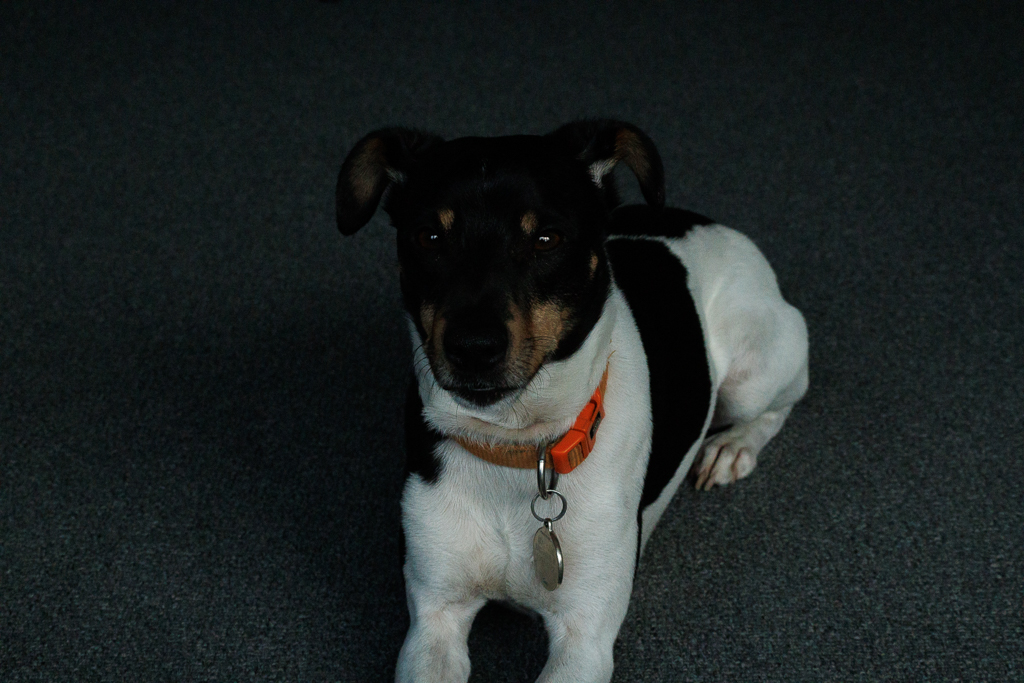Dog: (323, 110, 822, 683)
